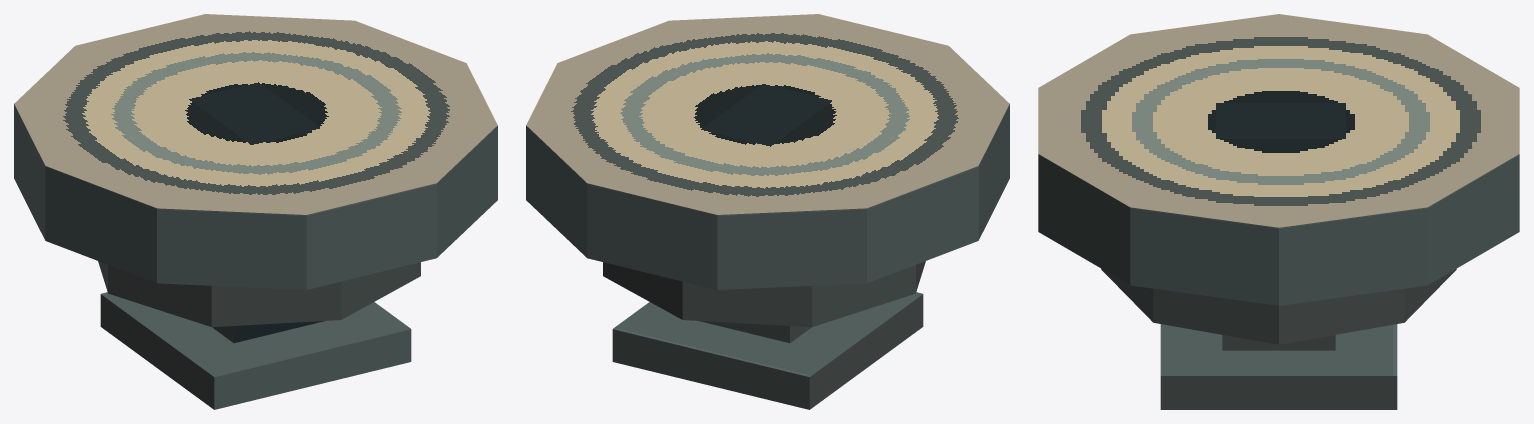
The model's file is salida_techo_electrica.glb.
3 renders of one model, left to right at view 1: azimuth 30°, elevation 25°; view 2: azimuth 150°, elevation 25°; view 3: azimuth 270°, elevation 25°, orthographic. The views are drawn at different scales.
Visible parts, largest first — view 1: ELECTRICO; view 2: ELECTRICO; view 3: ELECTRICO.
Part boxes in pixels (left/top/right/bottom): ELECTRICO: left=14, top=14, right=497, bottom=409; ELECTRICO: left=526, top=14, right=1009, bottom=409; ELECTRICO: left=1038, top=14, right=1519, bottom=409.
Size of the model in its own units: 0.2865 by 0.1494 by 0.2725.
Materials: 1 (1 with a texture image).
